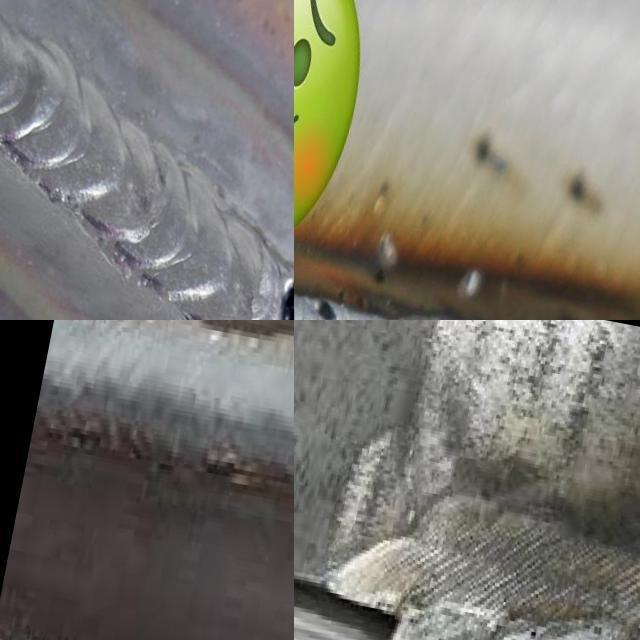defect: (315, 294, 340, 320)
